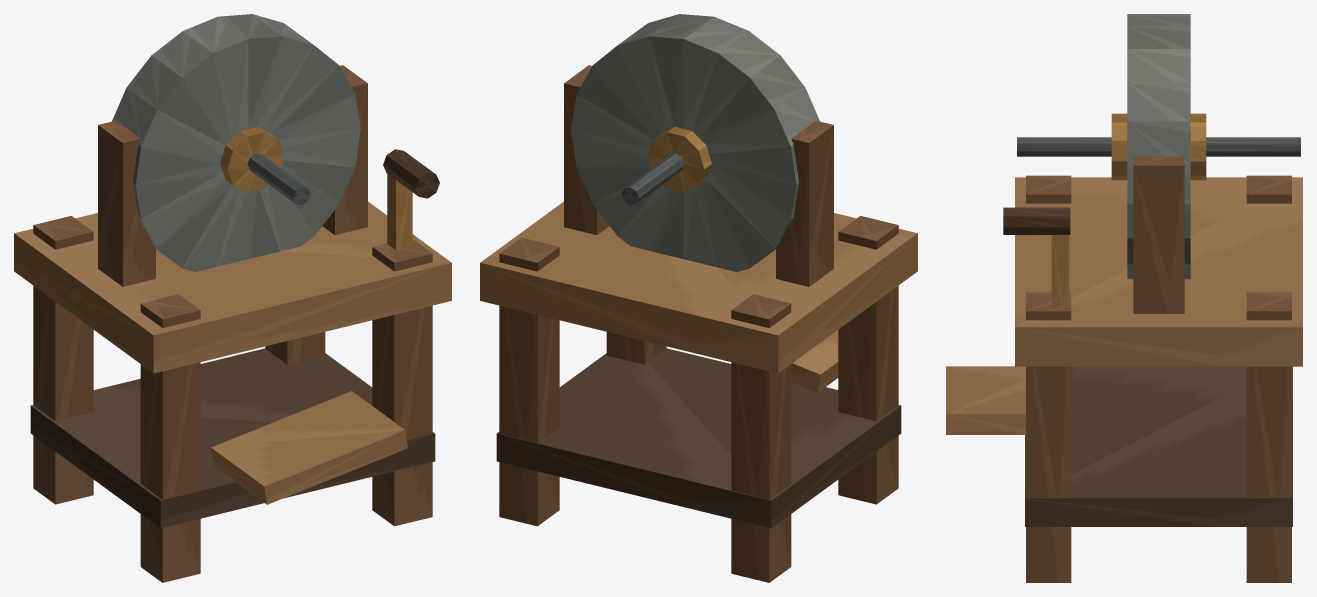
The model's file is earth-faceting-wheel.glb.
The picture shows the model from 3 angles, left to right: view 1: azimuth 30°, elevation 25°; view 2: azimuth 150°, elevation 25°; view 3: azimuth 270°, elevation 25°; orthographic projection. The views are drawn at different scales.
Visible parts, largest first — view 1: faceting-wheel; view 2: faceting-wheel; view 3: faceting-wheel.
Boxes of the visible parts, x1,y1,x2,y2 form: faceting-wheel: [14, 14, 451, 582]; faceting-wheel: [480, 14, 917, 582]; faceting-wheel: [946, 14, 1302, 582].
Bounding box in the file's own units: 0.9 × 1.37 × 0.905.
1 material, 1 textured.
